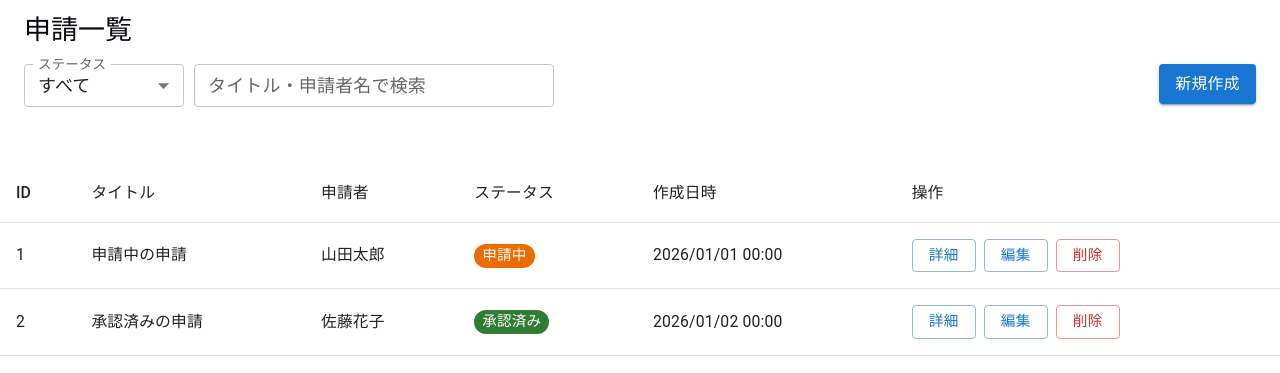
Scenario: ApplicationListPage › ステータスで絞り込むと、指定したステータスで申請一覧を再取得すること
The image size is (1280, 373).
Click the dropdown named "ステータス" at (64, 85), box [38,74,90,96]
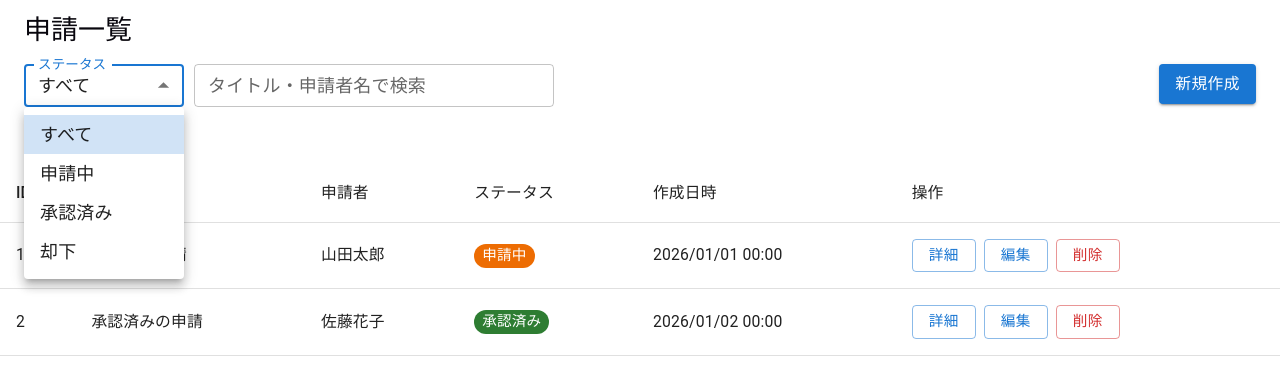
Click the option "申請中" at (67, 174), box [40,163,94,184]
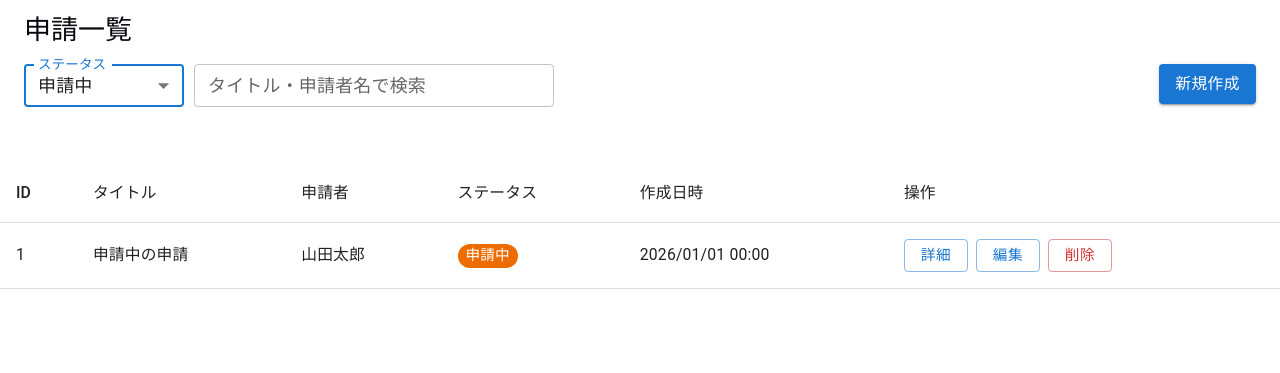
Expected: the text "申請中の申請" is shown, [77,222,285,289]
Now the text "承認済みの申請" is gone
